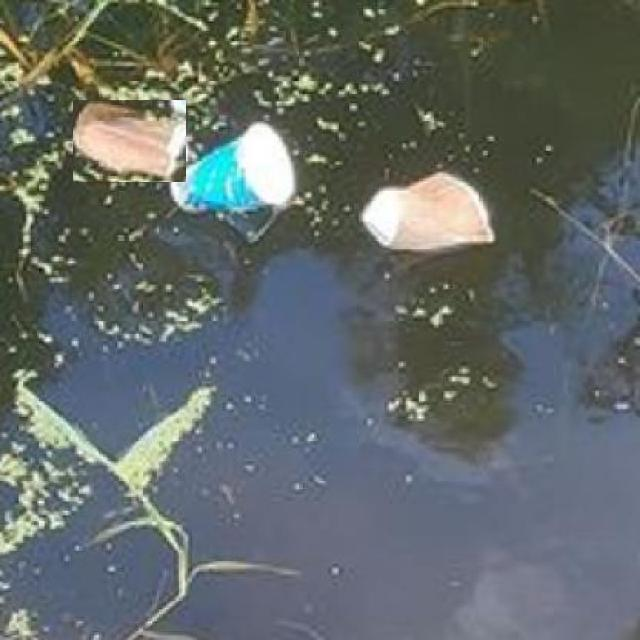Plastic cup: (169, 121, 299, 213), (360, 171, 496, 254), (73, 100, 186, 182)
